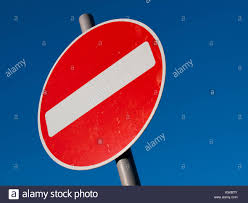No_entry: (36, 18, 167, 170)
